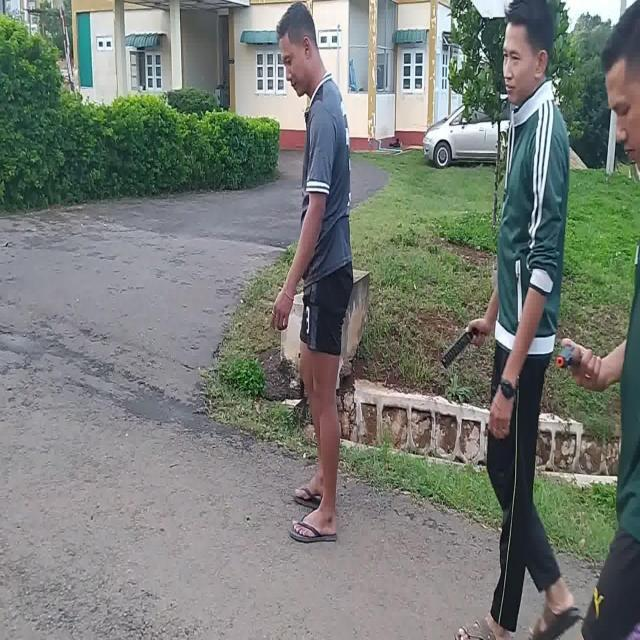gun: (557, 346, 571, 368)
